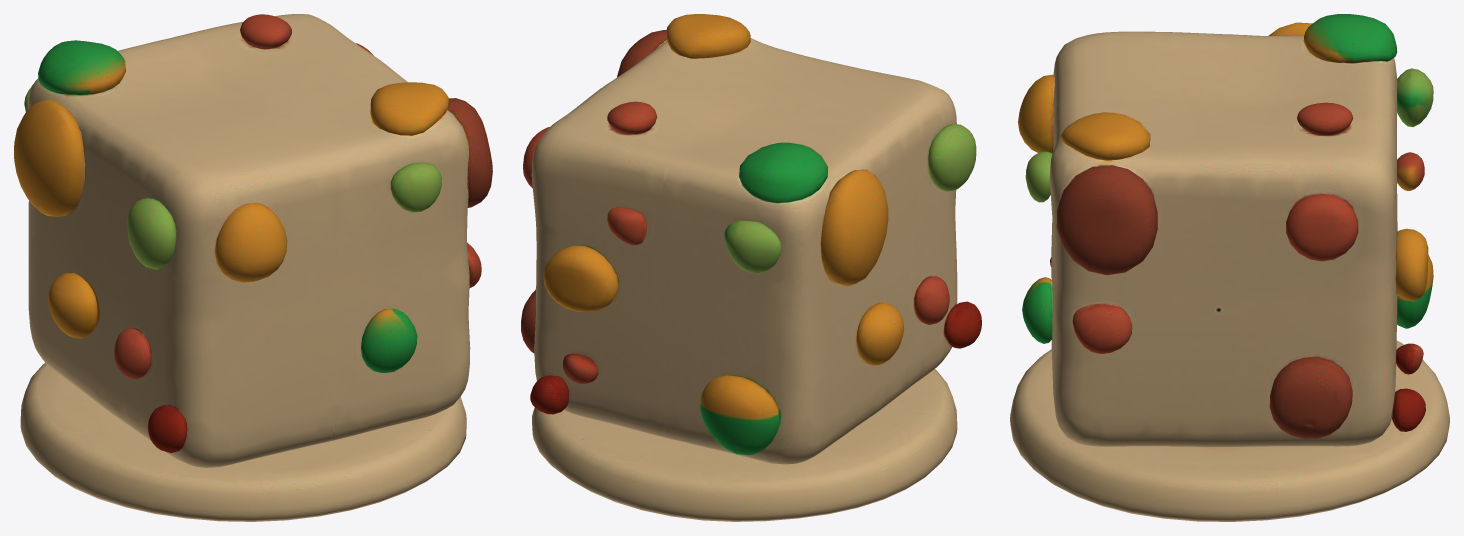
Rendered from prop_cover_block_round_01.glb.
3 views of the same model, side by side, from view 1: azimuth 30°, elevation 25°; view 2: azimuth 150°, elevation 25°; view 3: azimuth 270°, elevation 25° (orthographic). The views are drawn at different scales.
Parts seen in each view (by area): view 1: prop_cover_block_round_01; view 2: prop_cover_block_round_01; view 3: prop_cover_block_round_01.
Part boxes in pixels (x1,y1,x2,y2): prop_cover_block_round_01: (14, 14, 492, 521); prop_cover_block_round_01: (521, 14, 981, 521); prop_cover_block_round_01: (1010, 14, 1449, 521).
Size of the model in its own units: 1.31 by 1.2 by 1.31.
1 material, 1 textured.
